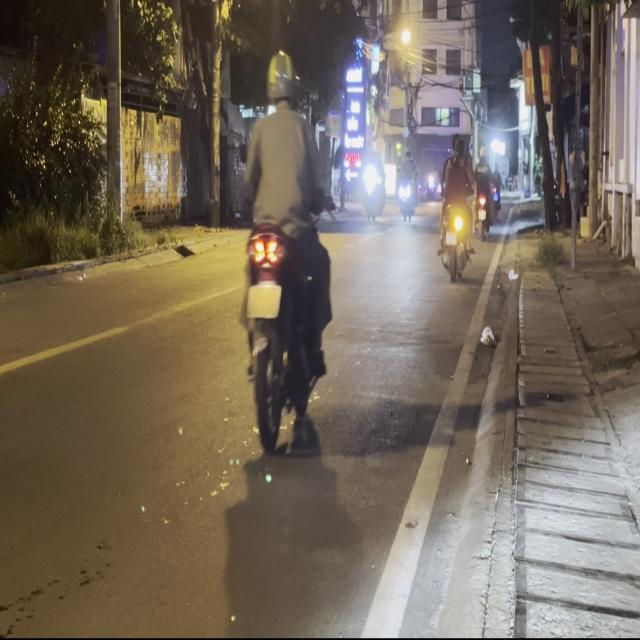helmet: (264, 49, 296, 108)
licenseplate: (236, 46, 336, 458)
nohelmet: (246, 284, 282, 318)
